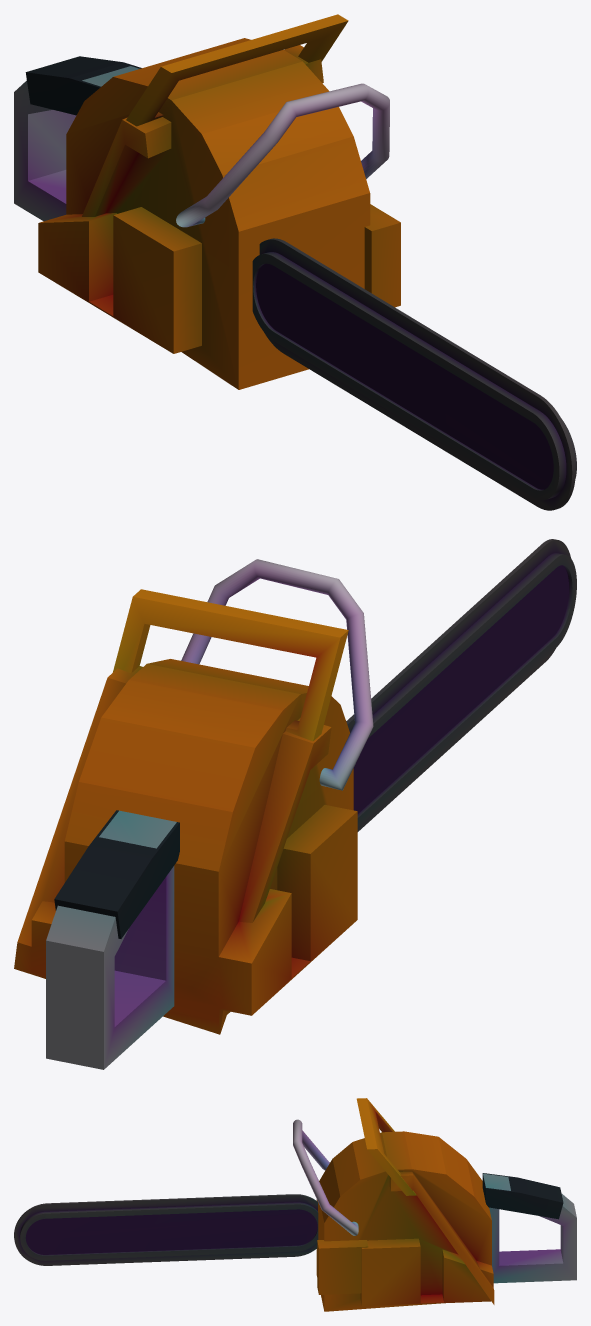
3 views of the same model, one above another, from view 1: azimuth 30°, elevation 25°; view 2: azimuth 150°, elevation 25°; view 3: azimuth 270°, elevation 25° (orthographic). The views are drawn at different scales.
Parts seen in each view (by area): view 1: case, bar, rear_frame, wrap, orange_loop, rear_grip, root_cover; view 2: case, bar, rear_frame, orange_loop, rear_grip, wrap; view 3: case, bar, rear_frame, root_cover, rear_grip, wrap, orange_loop.
Part boxes in pixels (box(x1,y1,x2,y2)): case: box(38, 38, 370, 389); bar: box(252, 238, 576, 510); rear_frame: box(14, 66, 139, 221); wrap: box(176, 83, 389, 227); orange_loop: box(126, 14, 348, 126); rear_grip: box(25, 56, 141, 115); root_cover: box(364, 204, 400, 307); case: box(14, 659, 357, 1034); bar: box(346, 539, 576, 831); rear_frame: box(46, 810, 176, 1069); orange_loop: box(113, 589, 348, 741); rear_grip: box(54, 810, 179, 938); wrap: box(181, 559, 373, 790); case: box(316, 1131, 494, 1311); bar: box(14, 1194, 318, 1265); rear_frame: box(483, 1173, 576, 1283); root_cover: box(317, 1240, 368, 1294); rear_grip: box(482, 1173, 563, 1219); wrap: box(293, 1119, 358, 1235); orange_loop: box(356, 1098, 416, 1195).
Size of the model in its own units: 0.1749 by 0.2313 by 0.7028.
